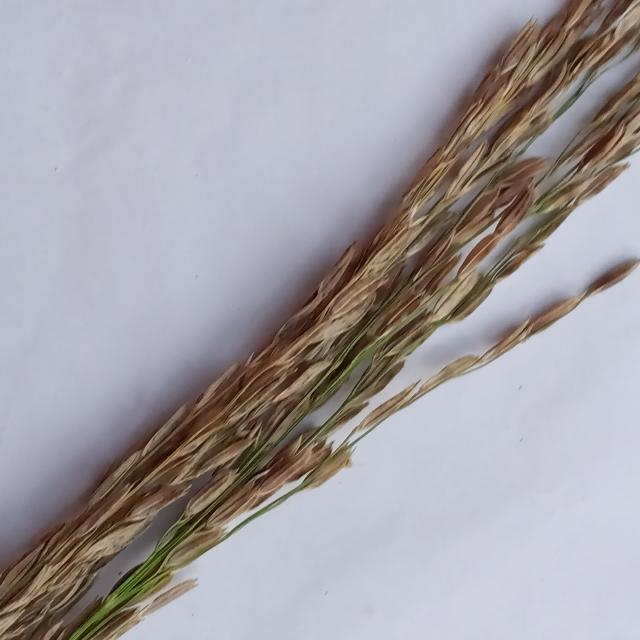Neck_Blast: (0, 0, 639, 640), (199, 262, 637, 554), (365, 87, 640, 359)
